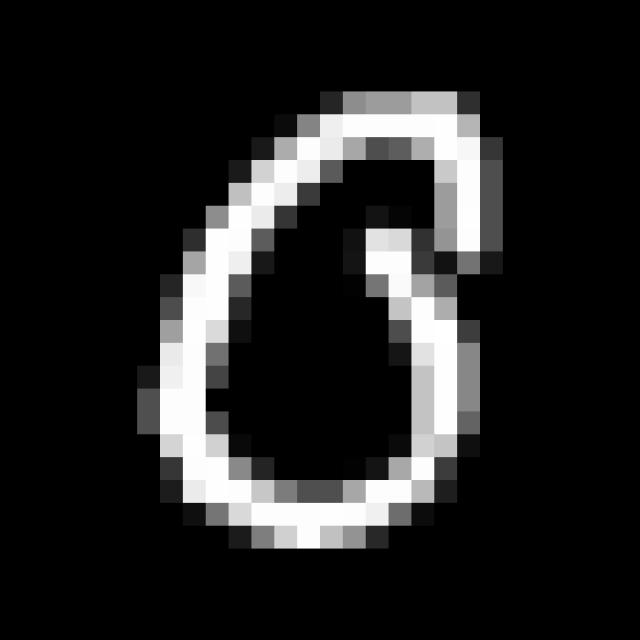zero -0-: (133, 66, 522, 574)
